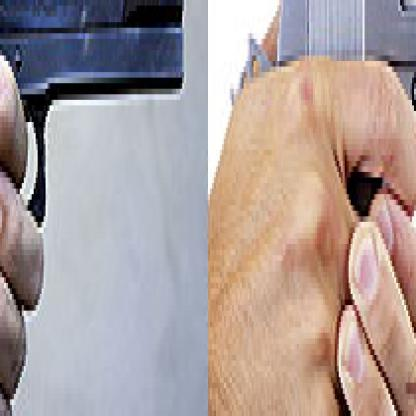gun: (0, 0, 197, 411), (237, 0, 415, 411)
